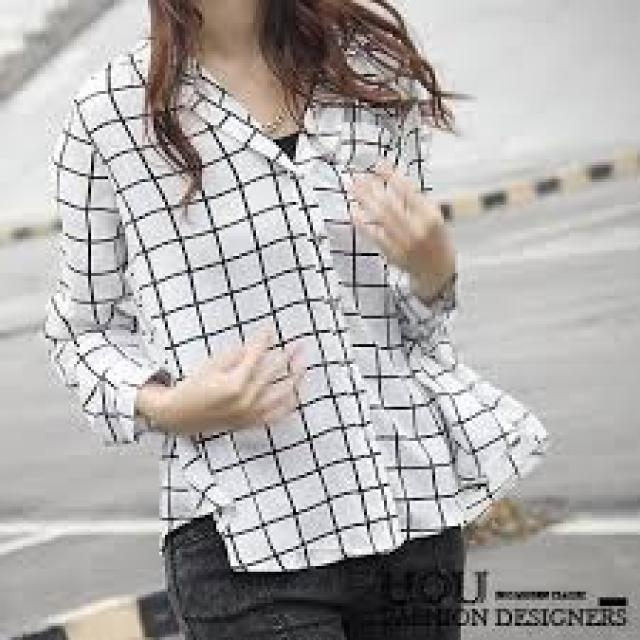plaid: (32, 61, 544, 551)
